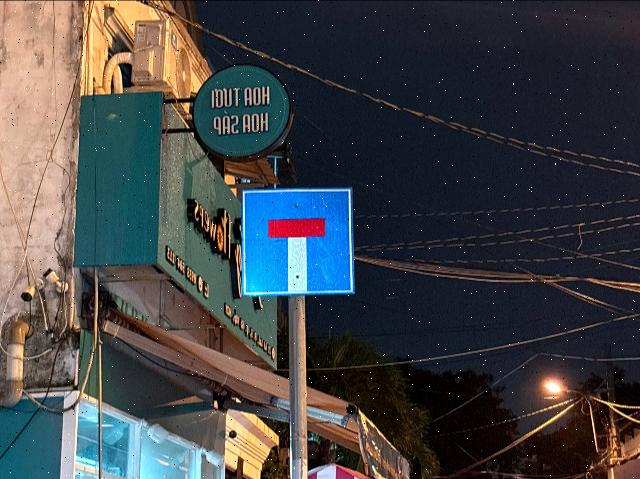duong-cut: (242, 187, 354, 297)
